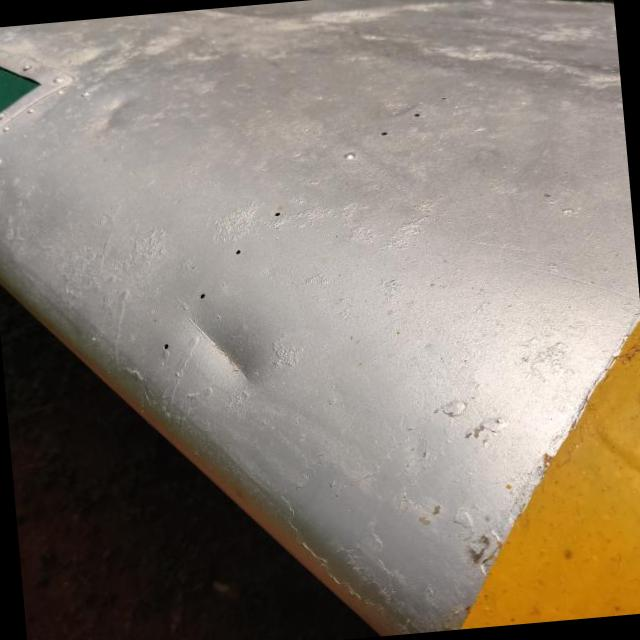Dent: (161, 281, 297, 410)
